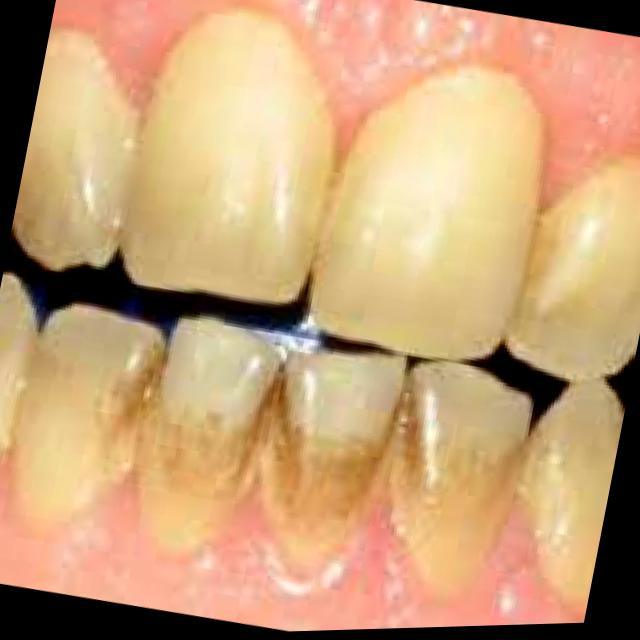tooth-discoloration: (250, 352, 402, 592), (134, 318, 285, 551), (388, 361, 529, 595)
